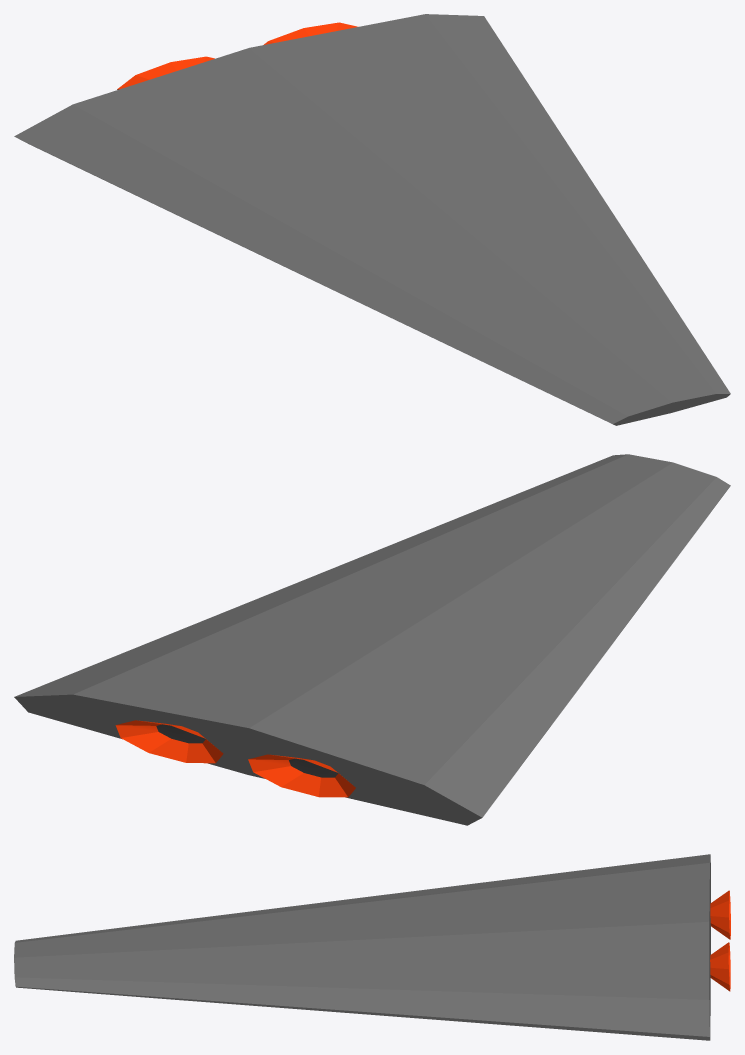
Rendered from hugeship.glb.
3 views of the same model, one above another, from view 1: azimuth 30°, elevation 25°; view 2: azimuth 150°, elevation 25°; view 3: azimuth 270°, elevation 25° (orthographic). The views are drawn at different scales.
Parts seen in each view (by area): view 1: Sippi, moottori; view 2: Sippi, moottori; view 3: Sippi, moottori.
Boxes of the visible parts, box(x1,y1,x2,y2) form: Sippi: box(14, 14, 730, 425); moottori: box(117, 22, 358, 89); Sippi: box(14, 454, 730, 825); moottori: box(115, 720, 355, 797); Sippi: box(14, 854, 710, 1040); moottori: box(710, 890, 730, 991).
Size of the model in its own units: 4663 by 548 by 7521.
